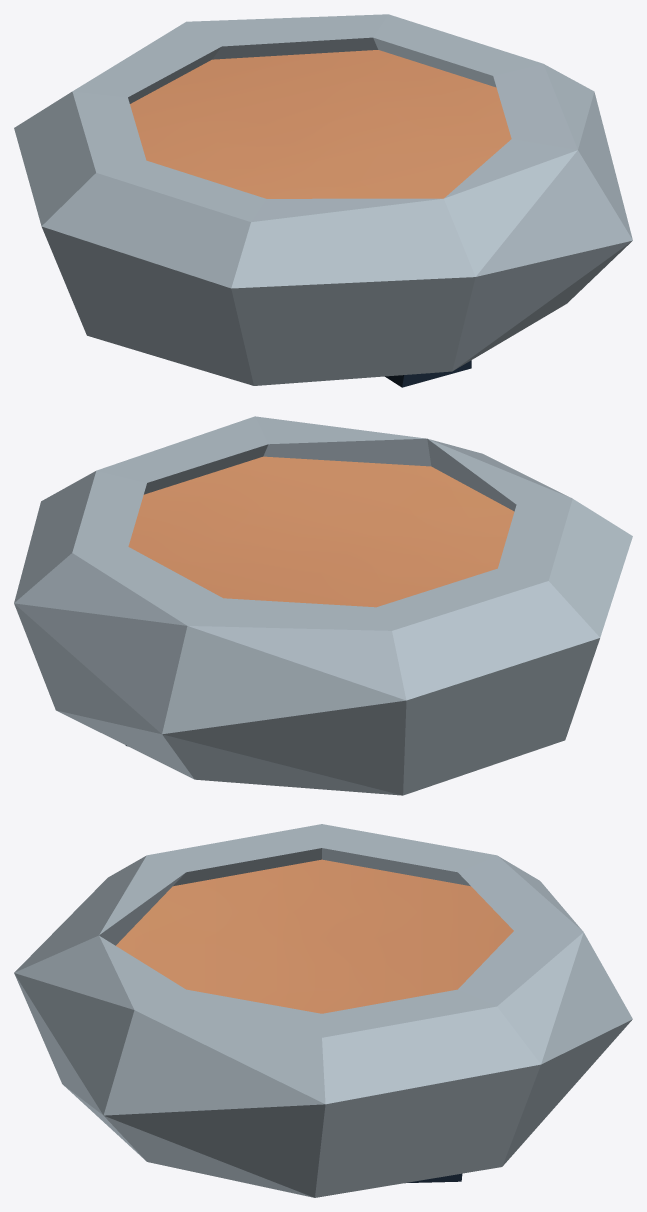
File: Garden_Concrete_Small.fbx
The picture shows the model from 3 angles, top to bottom: view 1: azimuth 30°, elevation 25°; view 2: azimuth 150°, elevation 25°; view 3: azimuth 270°, elevation 25°; orthographic projection. The views are drawn at different scales.
Visible parts, largest first — view 1: Cylinder.026; view 2: Cylinder.026; view 3: Cylinder.026.
Part boxes in pixels (x1=…): Cylinder.026: x1=14, y1=14, x2=632, y2=387; Cylinder.026: x1=14, y1=416, x2=632, y2=795; Cylinder.026: x1=14, y1=824, x2=632, y2=1197.
Bounding box in the file's own units: 48.95 × 16.58 × 48.42.
